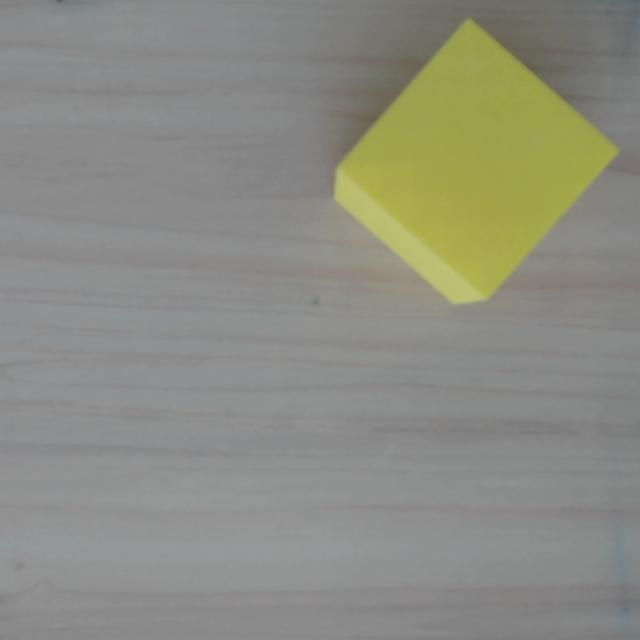Kubus-Kuning-505050: (317, 16, 620, 321)
